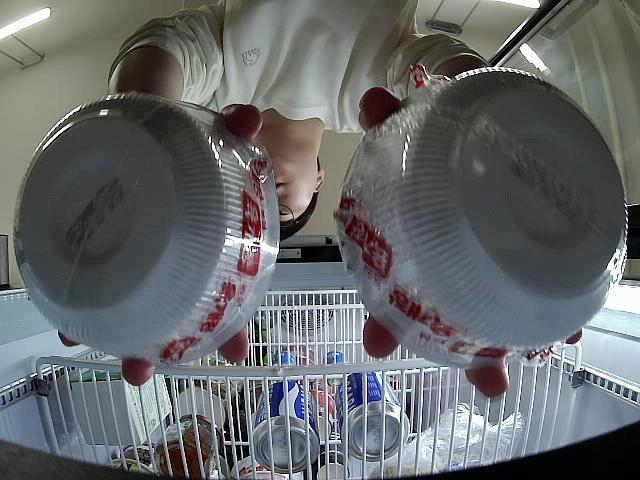09_yukGaeJang: (338, 66, 628, 366), (12, 94, 282, 367)
